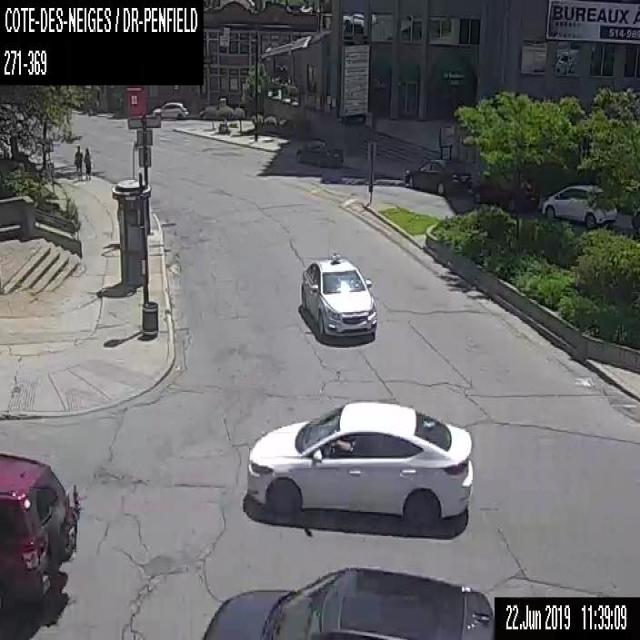pedestrian: (73, 143, 83, 180), (83, 145, 93, 179)
vehicle: (245, 399, 473, 533), (202, 564, 494, 639), (0, 451, 78, 616), (300, 255, 377, 336), (540, 183, 617, 227), (471, 173, 538, 212), (405, 157, 472, 195), (296, 138, 342, 166), (152, 98, 187, 118)
